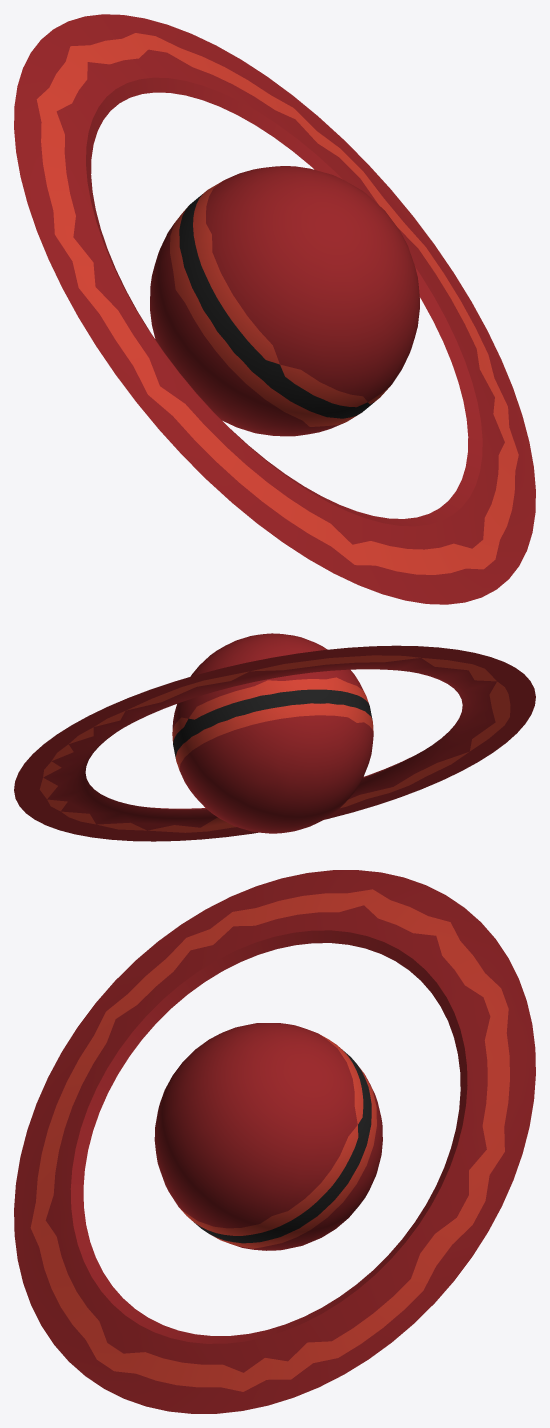
File: red.glb
3 renders of one model, top to bottom at view 1: azimuth 30°, elevation 25°; view 2: azimuth 150°, elevation 25°; view 3: azimuth 270°, elevation 25°, orthographic. The views are drawn at different scales.
Parts seen in each view (by area): view 1: Red; view 2: Red; view 3: Red.
Part boxes in pixels (box(x1,y1,x2,y2)): Red: box(14, 14, 535, 604); Red: box(14, 633, 535, 841); Red: box(14, 870, 535, 1413).
Size of the model in its own units: 5.74 by 4.68 by 5.74.
1 material, 1 textured.
